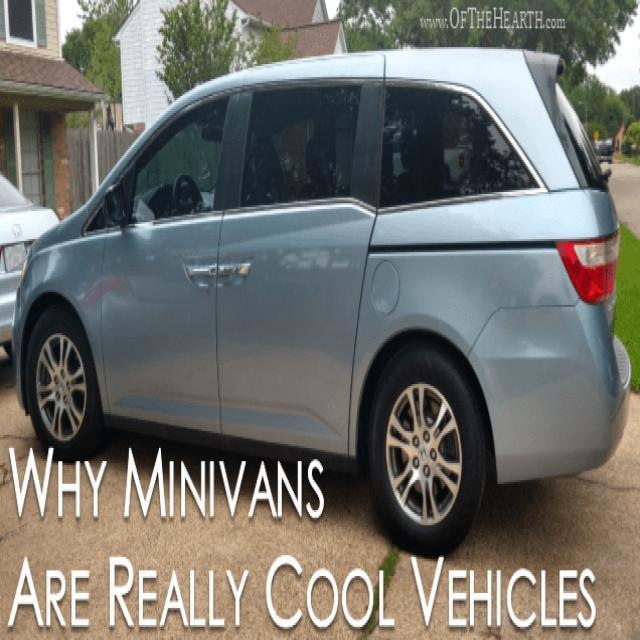minivan: (11, 43, 631, 556)
